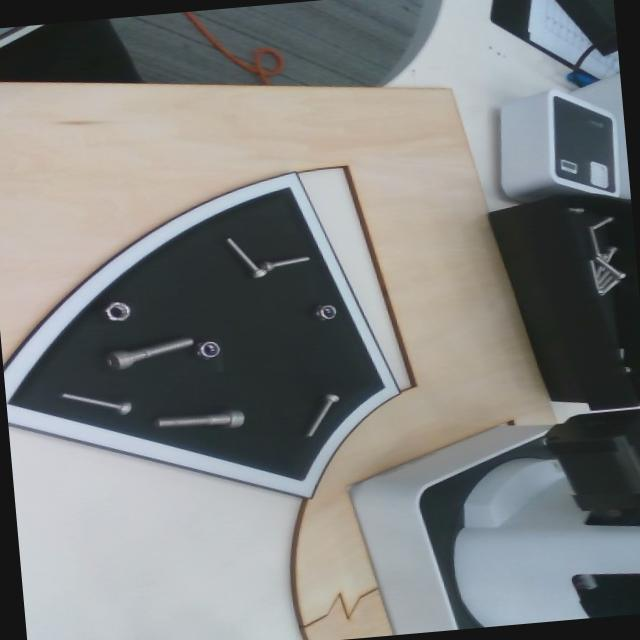big: (96, 325, 200, 372), (154, 405, 246, 435)
board: (0, 163, 409, 526)
circle: (100, 296, 134, 323), (193, 335, 224, 360), (309, 301, 339, 323)
small: (293, 383, 345, 440), (214, 233, 268, 286), (55, 388, 138, 416), (257, 244, 315, 275)
